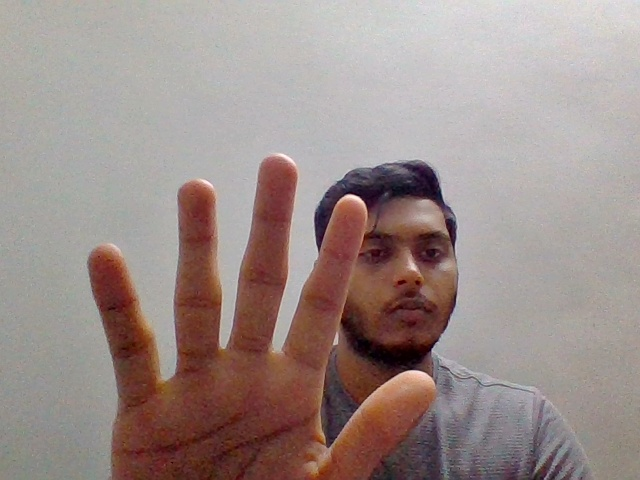Hello: (75, 142, 446, 480)
